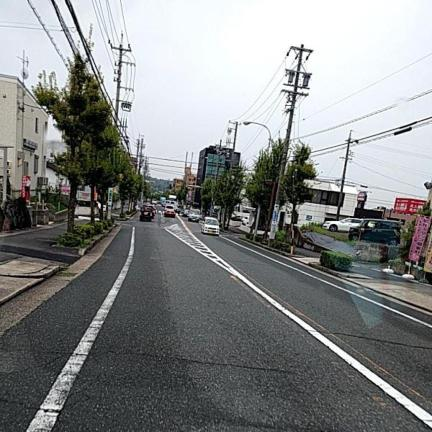Road: (0, 215, 431, 431)
